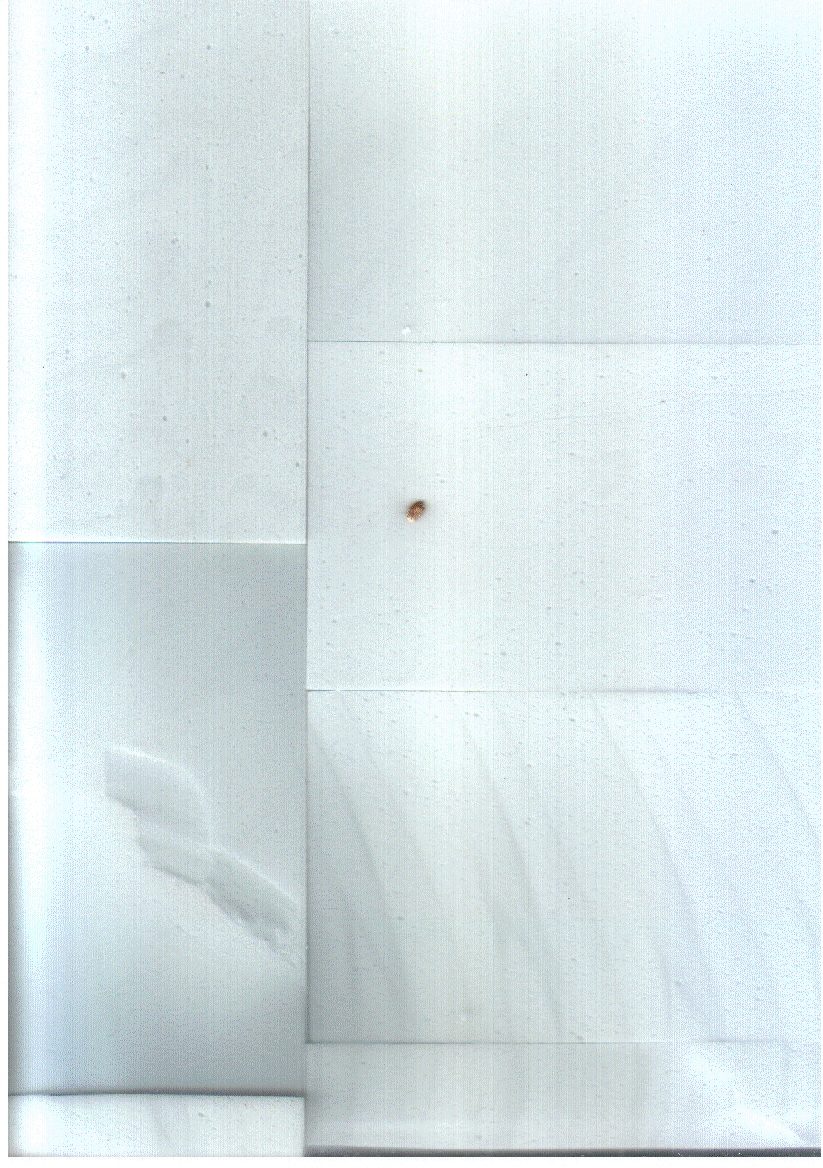grains: (395, 491, 437, 538)
